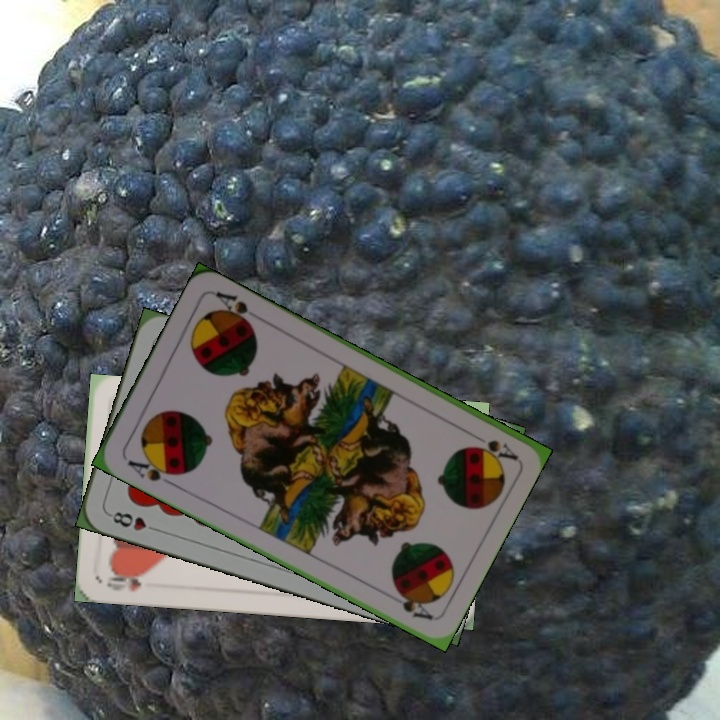H8: (105, 507, 162, 535)
HO: (103, 568, 150, 594)
SA: (123, 452, 181, 488), (472, 435, 519, 463)
